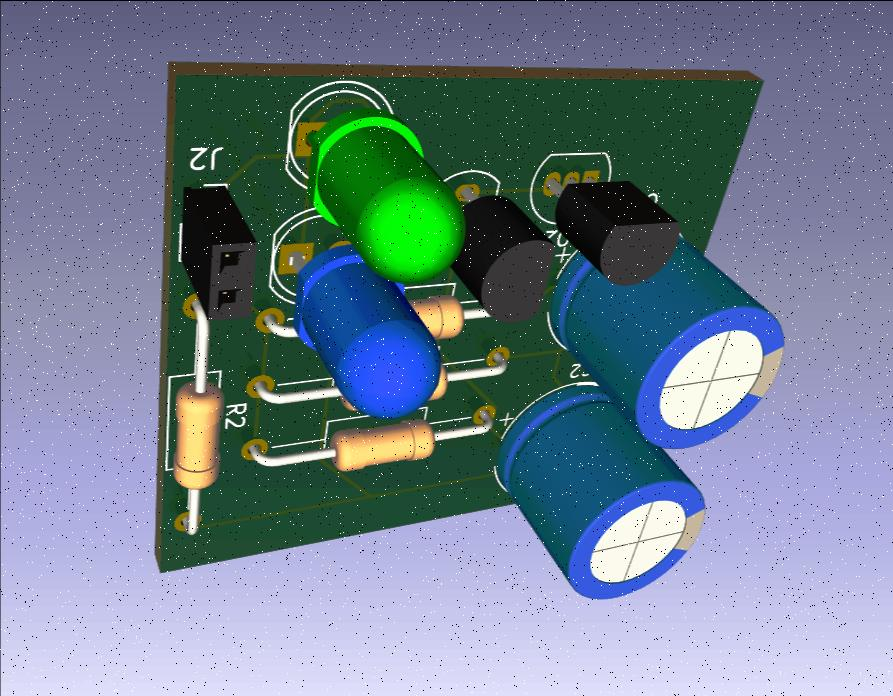blue_led: (285, 252, 442, 420)
capacitor: (553, 245, 785, 451), (498, 389, 705, 601)
green_led: (311, 111, 454, 282)
resistor: (164, 367, 228, 492), (330, 416, 432, 470), (358, 360, 448, 404), (414, 292, 464, 340)
transistor: (550, 176, 678, 290), (448, 192, 558, 324)
